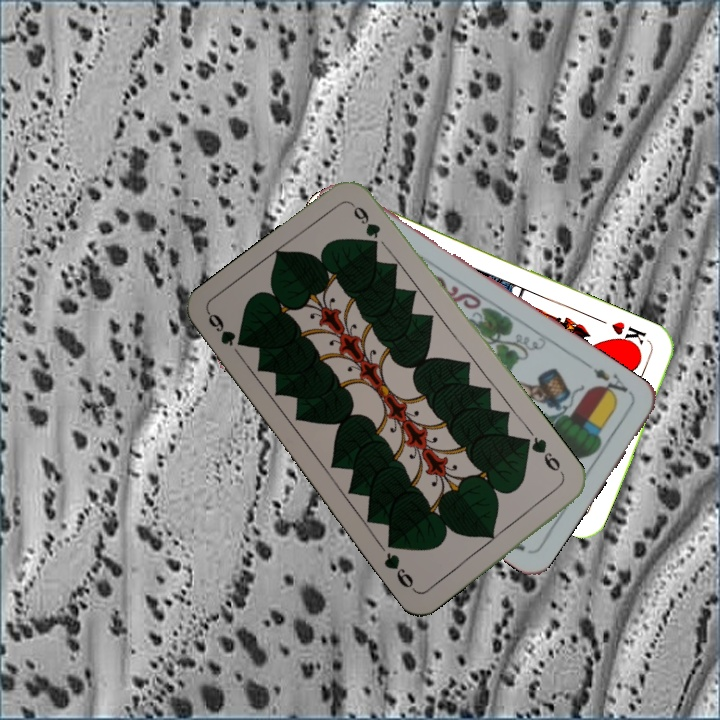EA: (589, 364, 635, 403)
G9: (522, 432, 567, 481), (203, 309, 248, 349)
HK: (607, 317, 649, 353)
